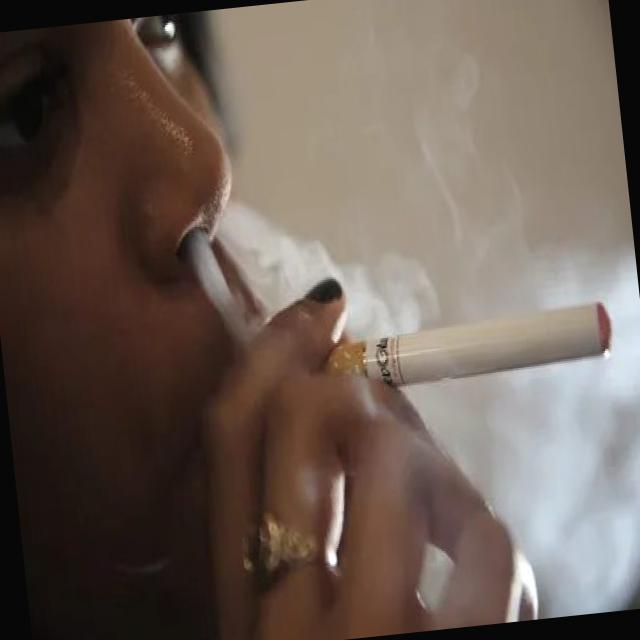smoke: (314, 295, 622, 406)
